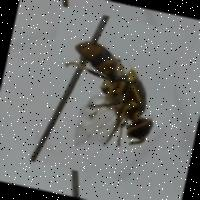Oriental-fruit-fly: (29, 5, 186, 186)
